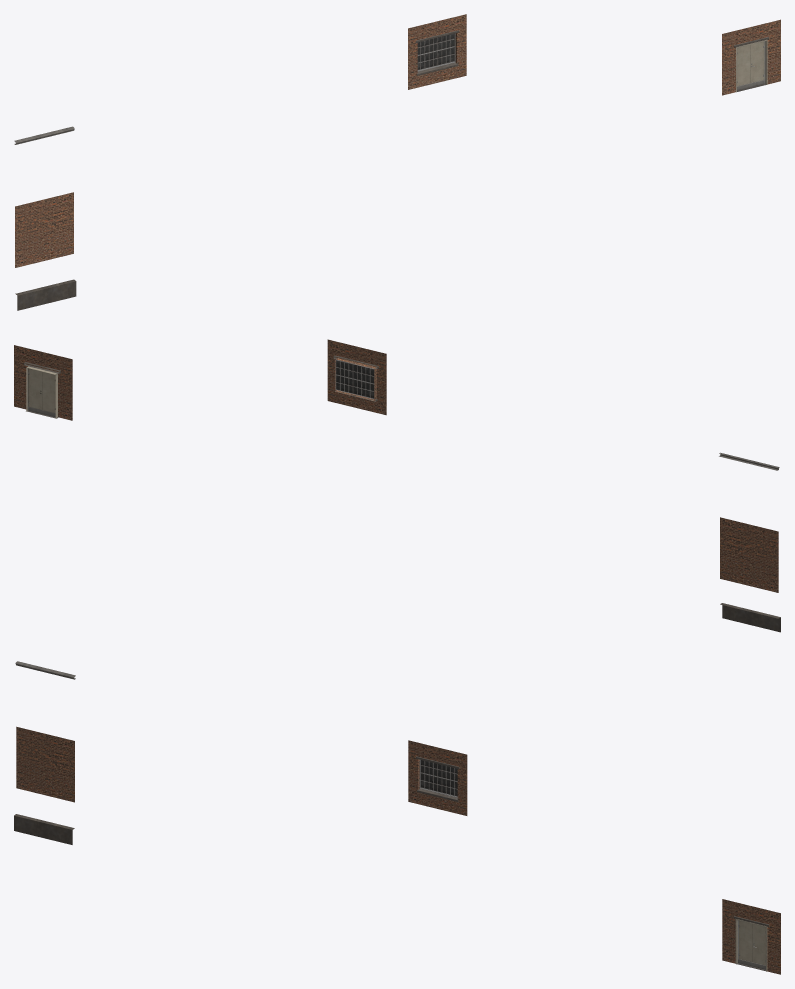
Rendered from facade.glb.
3 renders of one model, top to bottom at view 1: azimuth 30°, elevation 25°; view 2: azimuth 150°, elevation 25°; view 3: azimuth 330°, elevation 25°, orthographic.
Parts seen in each view (by area): view 1: wall_standard_standard_01, wall_window_centered_large_01, wall_door_centered_large_01, door_centered_large_01, window_centered_large_01, base_standard_standard_01; view 2: wall_standard_standard_01, wall_window_centered_large_01, wall_door_centered_large_01, door_centered_large_01, window_centered_large_01, base_standard_standard_01; view 3: wall_standard_standard_01, wall_window_centered_large_01, wall_door_centered_large_01, door_centered_large_01, window_centered_large_01, base_standard_standard_01.
Boxes of the visible parts, left/top/right/bottom form: wall_standard_standard_01: left=15, top=192, right=73, bottom=267; wall_window_centered_large_01: left=408, top=14, right=466, bottom=89; wall_door_centered_large_01: left=722, top=19, right=780, bottom=95; door_centered_large_01: left=734, top=37, right=769, bottom=92; window_centered_large_01: left=415, top=30, right=459, bottom=75; base_standard_standard_01: left=15, top=279, right=76, bottom=310; wall_standard_standard_01: left=720, top=517, right=778, bottom=592; wall_window_centered_large_01: left=327, top=339, right=386, bottom=415; wall_door_centered_large_01: left=14, top=345, right=72, bottom=420; door_centered_large_01: left=24, top=362, right=60, bottom=418; window_centered_large_01: left=333, top=355, right=378, bottom=401; base_standard_standard_01: left=720, top=603, right=780, bottom=632; wall_standard_standard_01: left=16, top=726, right=74, bottom=802; wall_window_centered_large_01: left=408, top=740, right=467, bottom=815; wall_door_centered_large_01: left=722, top=899, right=780, bottom=974; door_centered_large_01: left=733, top=916, right=769, bottom=971; window_centered_large_01: left=416, top=756, right=459, bottom=801; base_standard_standard_01: left=14, top=814, right=74, bottom=844.
Size of the model in its own units: 39 by 9 by 0.405.
5 materials, 5 textured.
